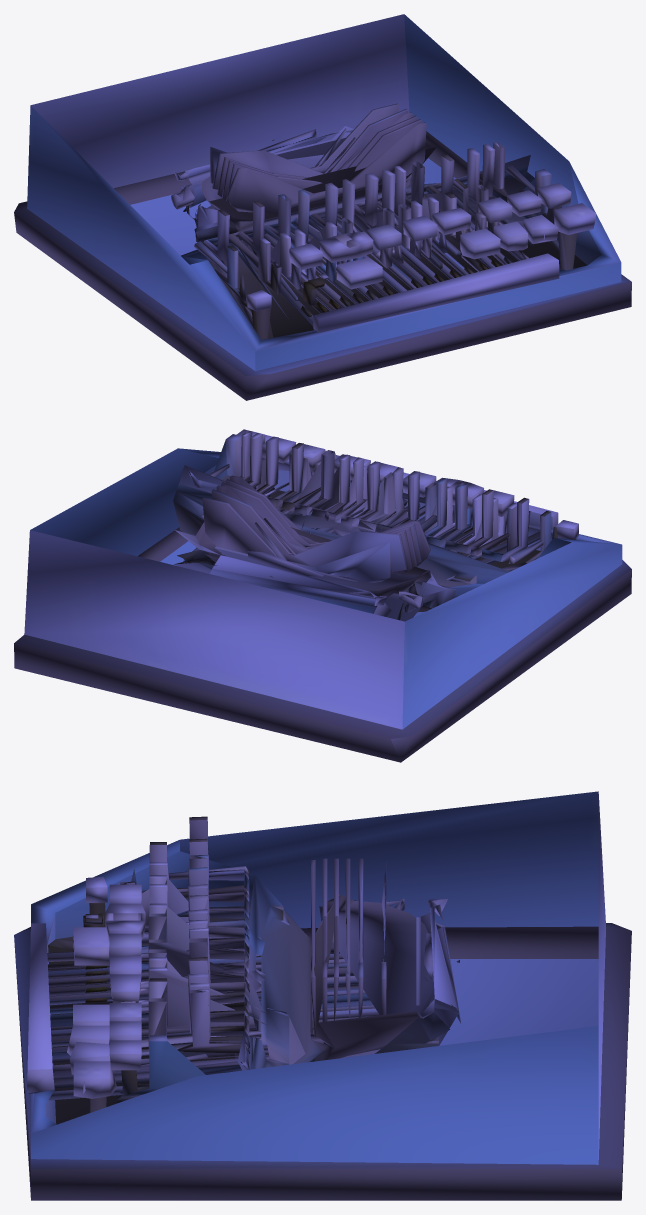
The model's file is model.progressive.glb.
3 renders of one model, top to bottom at view 1: azimuth 30°, elevation 25°; view 2: azimuth 150°, elevation 25°; view 3: azimuth 270°, elevation 25°, orthographic. The views are drawn at different scales.
Parts seen in each view (by area): view 1: material; view 2: material; view 3: material.
Part boxes in pixels (<box>): material: <box>14,14,631,400</box>; material: <box>14,429,631,762</box>; material: <box>14,791,631,1200</box>.
Bounding box in the file's own units: 1.74 × 0.5605 × 1.84.
Materials: 1 (1 with a texture image).
